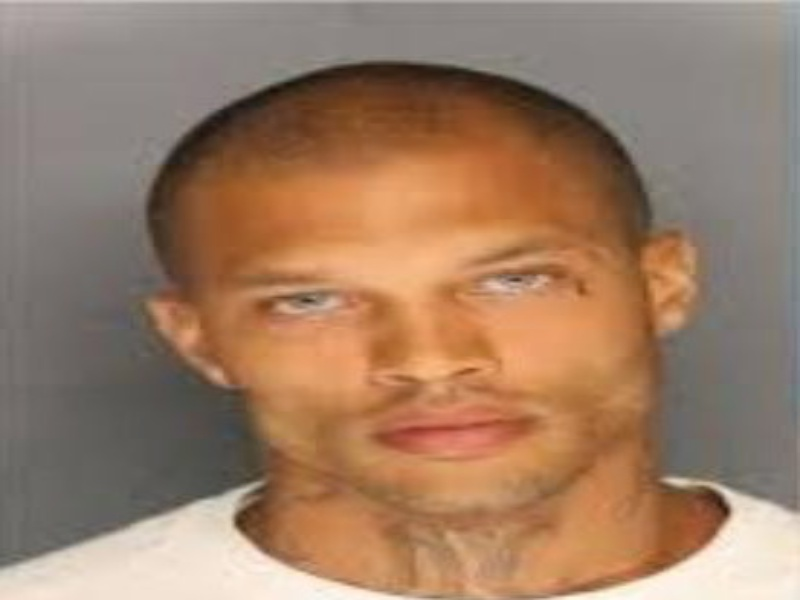TsisyArotava: (125, 40, 751, 564)
